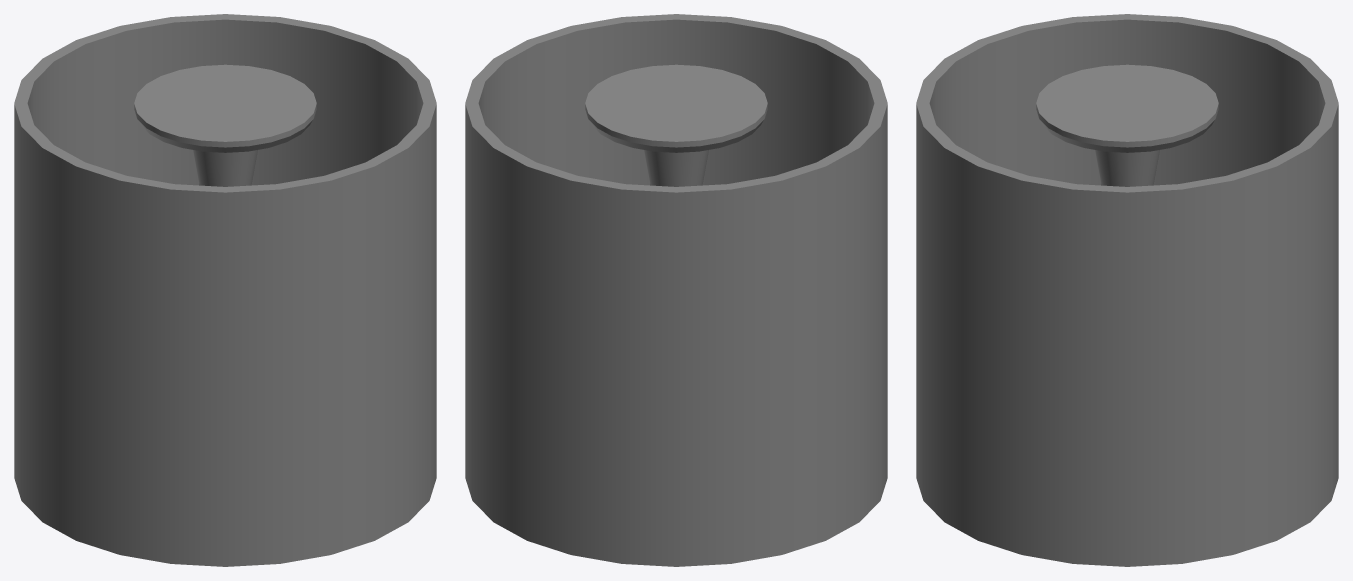
File: DeltaK_AJ10.dae
3 views of the same model, side by side, from view 1: azimuth 30°, elevation 25°; view 2: azimuth 150°, elevation 25°; view 3: azimuth 270°, elevation 25° (orthographic).
Visible parts, largest first — view 1: fairing, DeltaK_AJ10_Base, DeltaK_AJ10_ThrustChamber; view 2: fairing, DeltaK_AJ10_Base, DeltaK_AJ10_ThrustChamber; view 3: fairing, DeltaK_AJ10_Base, DeltaK_AJ10_ThrustChamber.
Part boxes in pixels (left/top/right/bottom): fairing: left=14, top=14, right=436, bottom=566; DeltaK_AJ10_Base: left=134, top=64, right=316, bottom=152; DeltaK_AJ10_ThrustChamber: left=193, top=150, right=257, bottom=186; fairing: left=465, top=14, right=887, bottom=566; DeltaK_AJ10_Base: left=585, top=64, right=767, bottom=152; DeltaK_AJ10_ThrustChamber: left=644, top=150, right=708, bottom=186; fairing: left=916, top=14, right=1338, bottom=566; DeltaK_AJ10_Base: left=1036, top=64, right=1218, bottom=152; DeltaK_AJ10_ThrustChamber: left=1095, top=150, right=1159, bottom=186.
Bounding box in the file's own units: 1.25 × 1.22 × 1.25.
